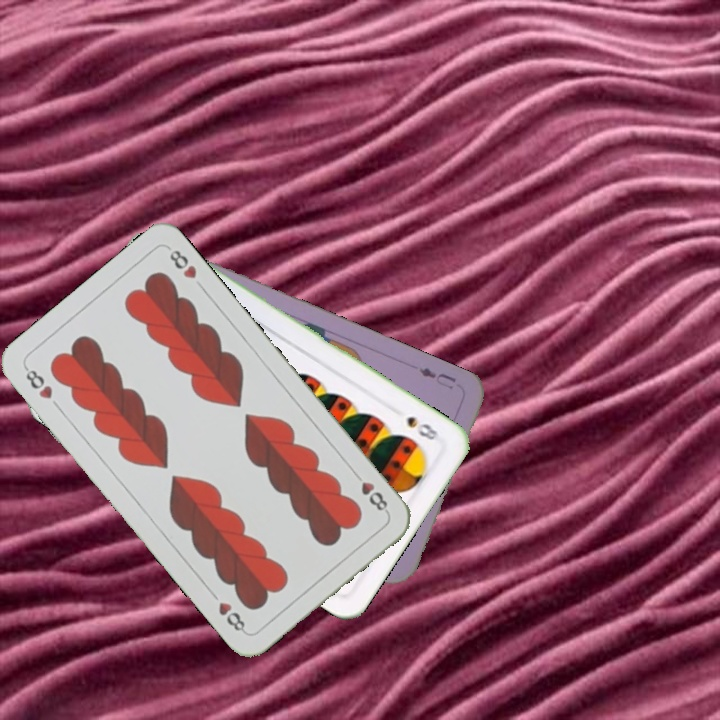EU: (414, 363, 459, 391)
H8: (348, 467, 391, 516), (20, 363, 55, 402)
S8: (402, 412, 446, 443)
